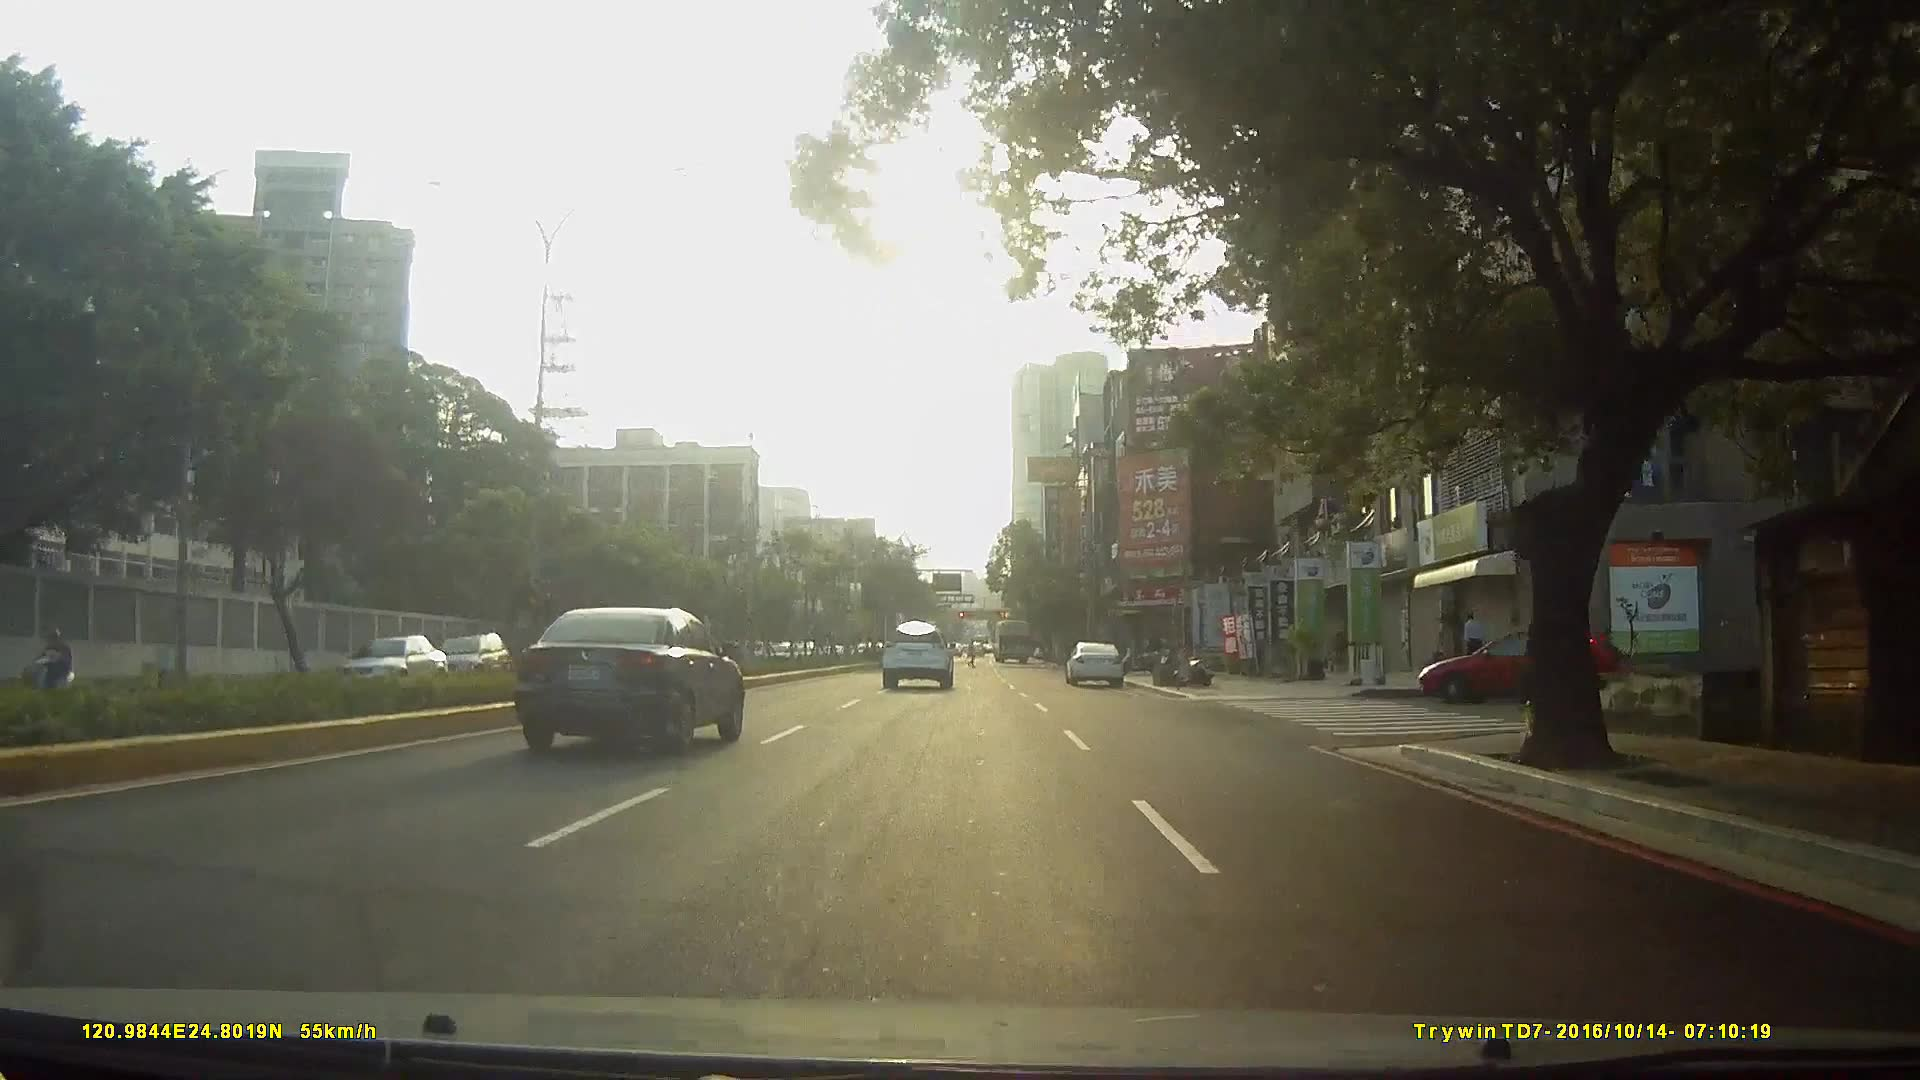pedestrian: (1462, 614, 1485, 683)
rider: (24, 624, 65, 700)
vehicle: (520, 606, 750, 753), (1414, 613, 1637, 705), (331, 625, 459, 698), (881, 620, 955, 688), (432, 613, 517, 668), (1063, 641, 1127, 688), (990, 615, 1034, 663)
